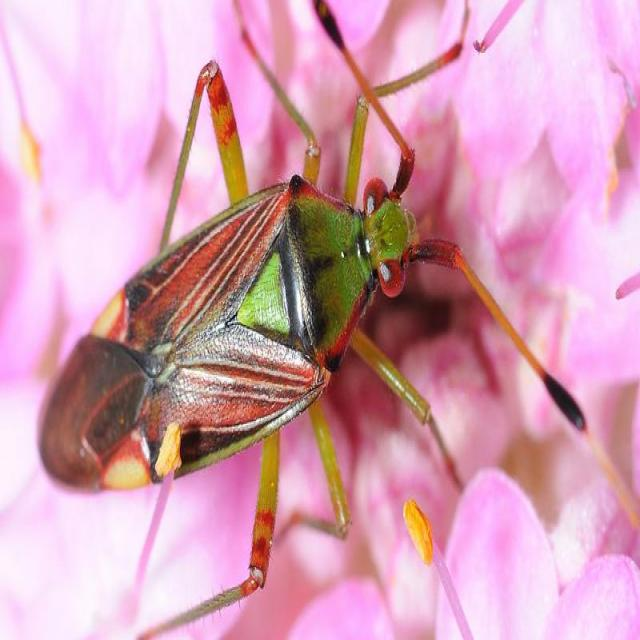Miridae-Adult-: (28, 2, 593, 601)
